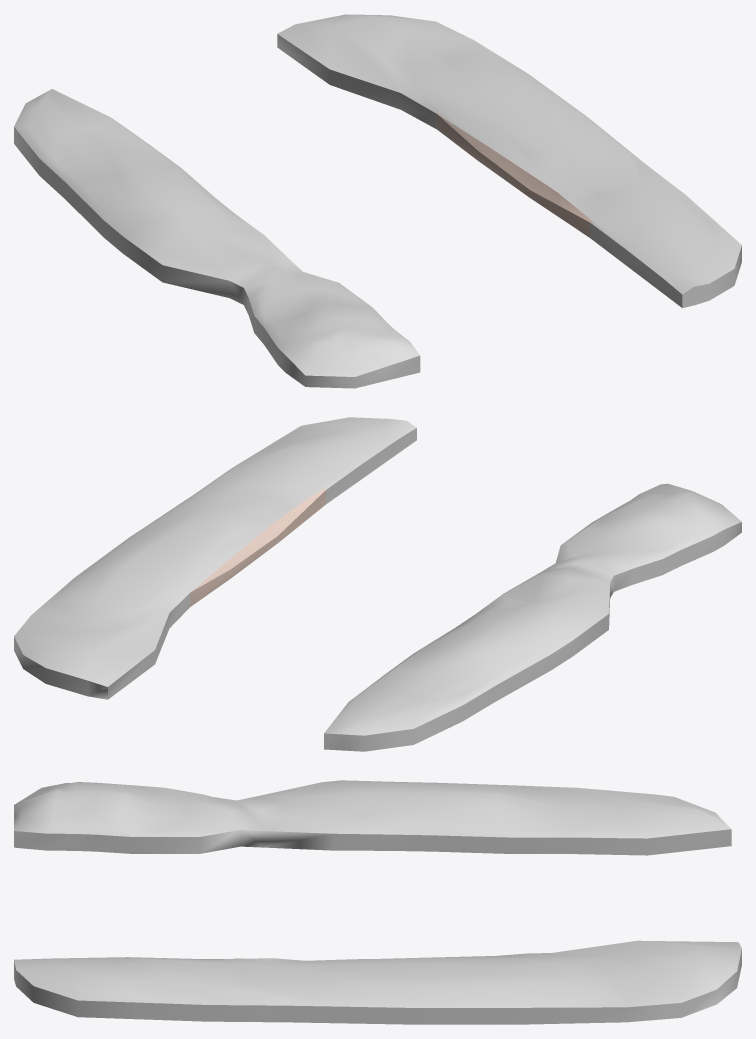
The model's file is backdropHills.fbx.
The picture shows the model from 3 angles, top to bottom: view 1: azimuth 30°, elevation 25°; view 2: azimuth 150°, elevation 25°; view 3: azimuth 270°, elevation 25°; orthographic projection. The views are drawn at different scales.
Parts seen in each view (by area): view 1: backdropHills; view 2: backdropHills; view 3: backdropHills.
Part boxes in pixels (bbox=[...]): backdropHills: bbox=[14, 14, 741, 388]; backdropHills: bbox=[14, 417, 741, 751]; backdropHills: bbox=[14, 780, 741, 1024].
Bounding box in the file's own units: 23247 × 1662 × 31669.
